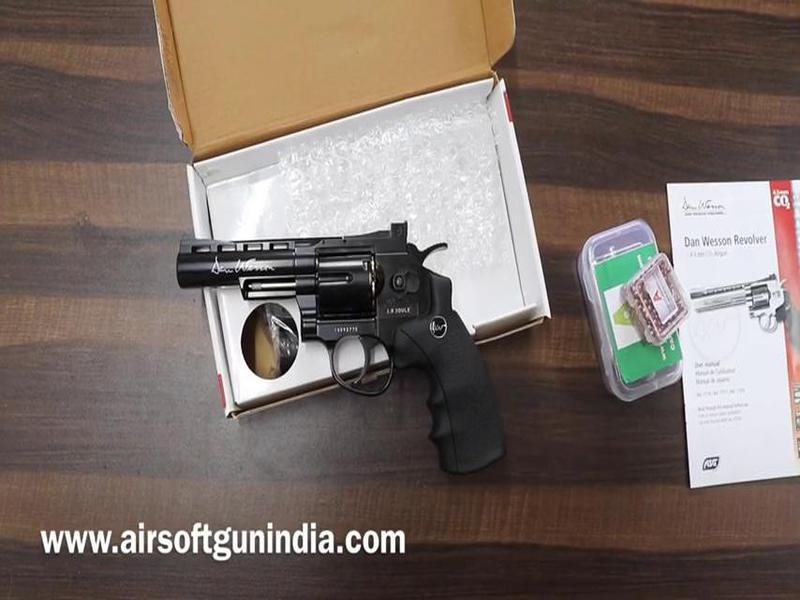Revolver: (169, 220, 519, 501)
